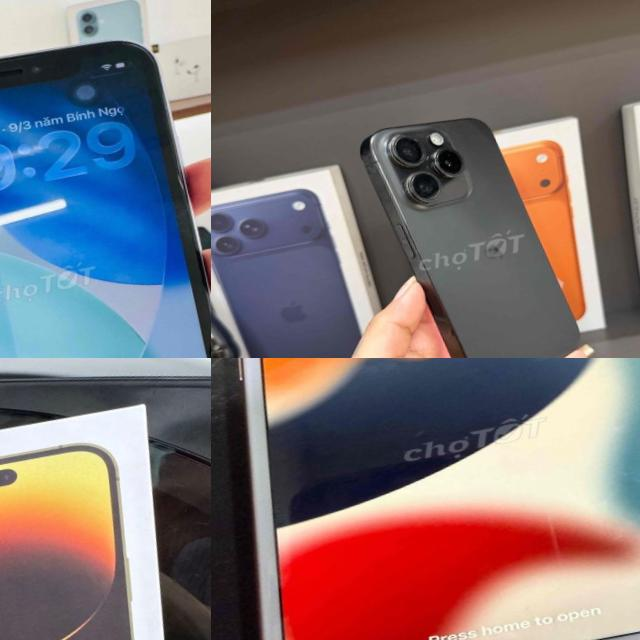scratch: (358, 144, 394, 206), (528, 498, 562, 562)
